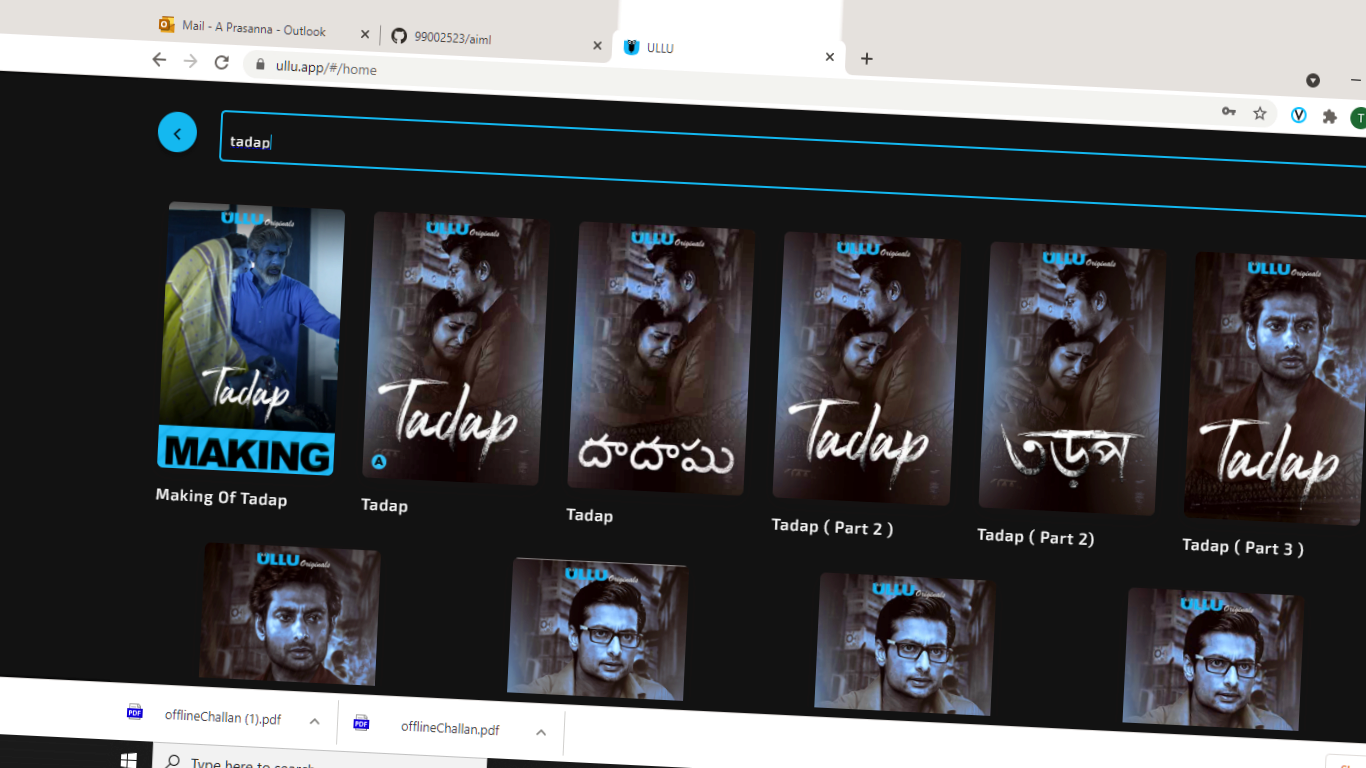backbutton: (140, 98, 207, 156)
searchtextbox: (216, 108, 1363, 226)
